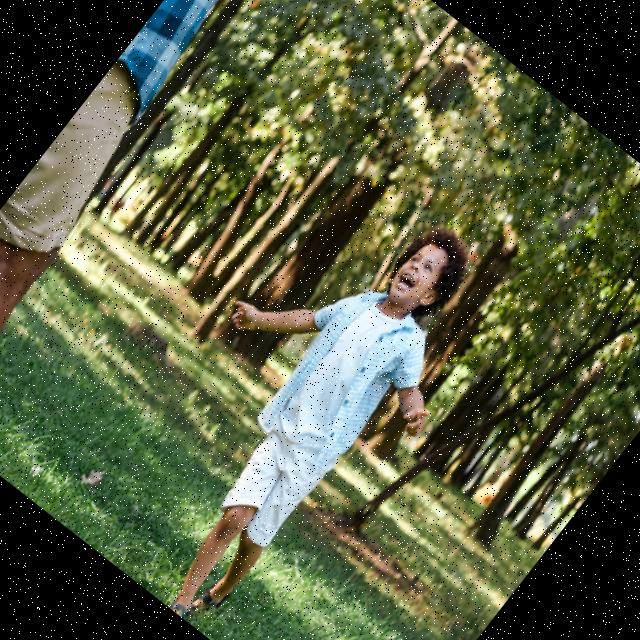Person: (62, 153, 531, 640), (0, 0, 343, 436)
